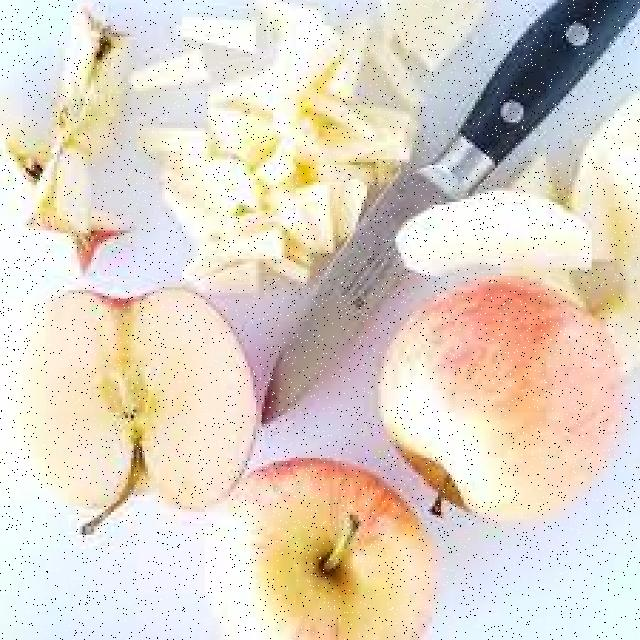Apple: (381, 287, 617, 523), (21, 290, 260, 503), (202, 458, 436, 640), (15, 4, 125, 247), (389, 188, 596, 278)
